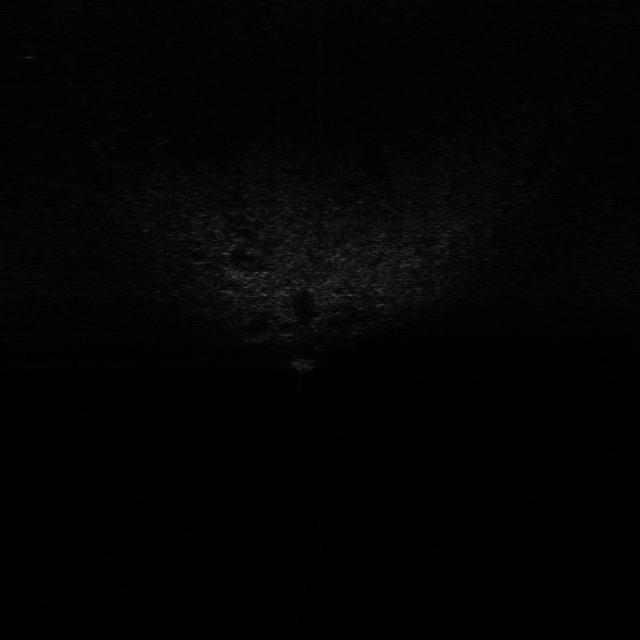cube: (288, 352, 323, 375)
